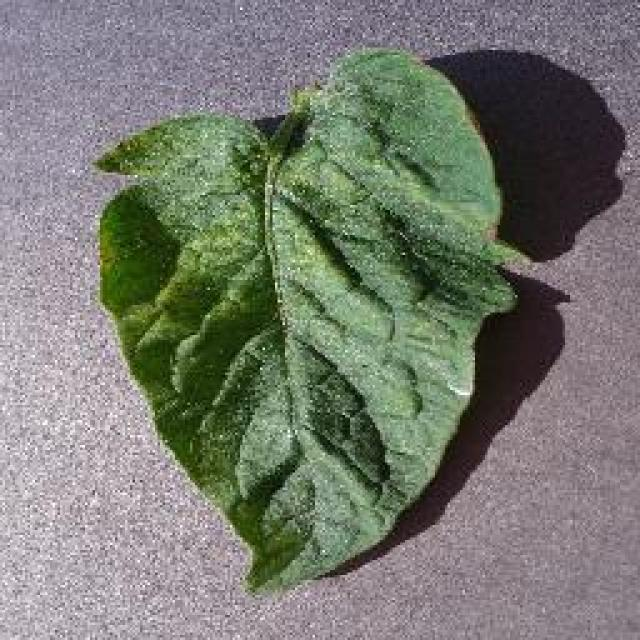Tomato___Spider_mites Two-spotted_spider_mite: (98, 50, 515, 590)
